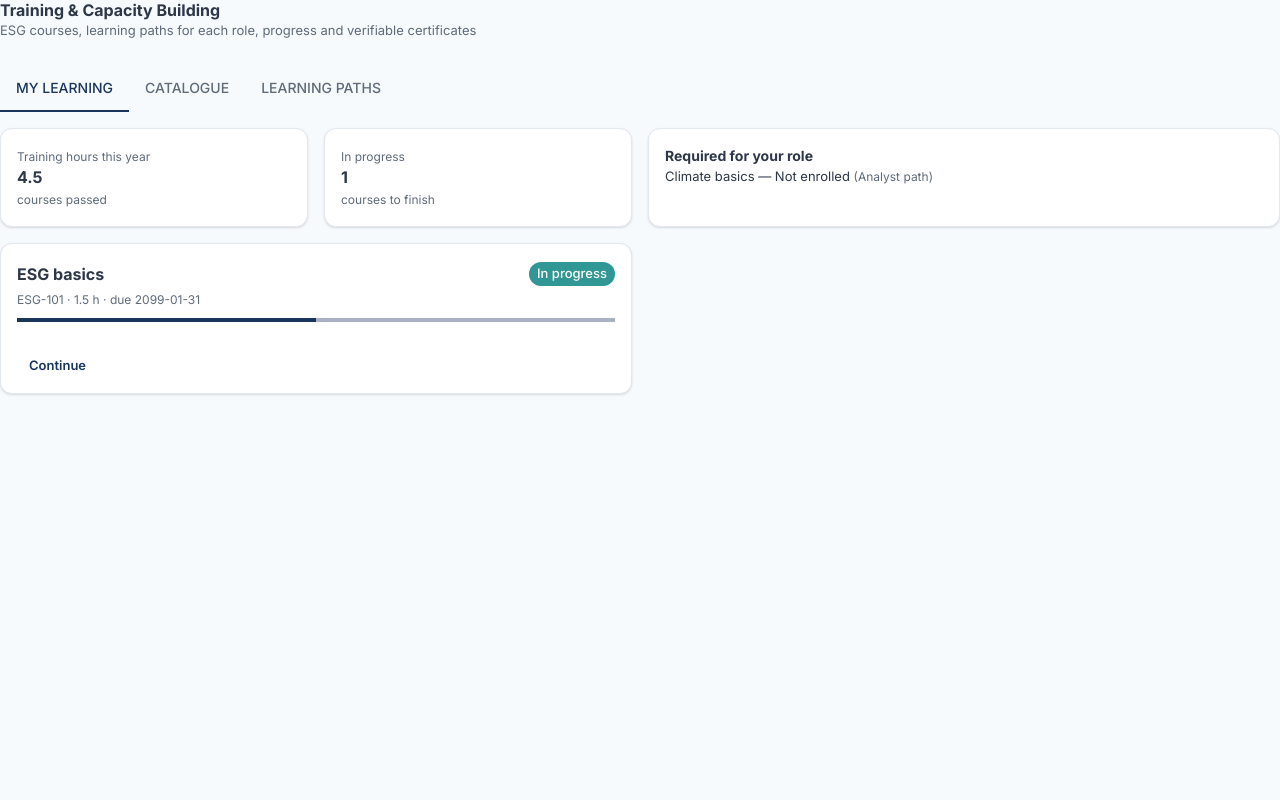
Test case: Training page › a learner works through the modules, takes the quiz and gets a certificate
This screenshot has width=1280, height=800.
Check: the element named "Competency gaps" shows "Climate basics — Not enrolled", box [648,128,1279,227]
Step 1. Click the button with aria-label "Open ESG basics" → (58, 365), box [9,346,106,385]
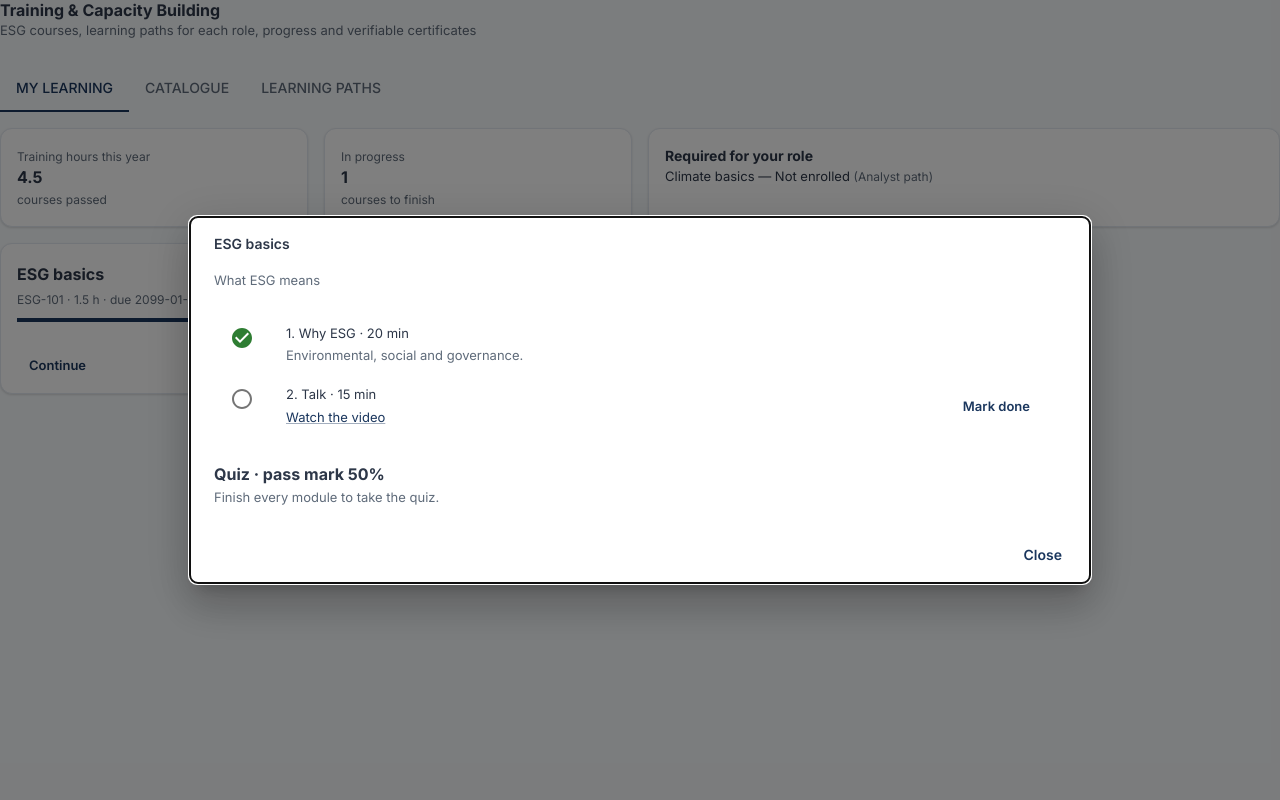
Check: the text "Finish every module to take the quiz." is shown, box [214,489,439,505]
Step 2. Click the button with aria-label "Mark Talk done" → (996, 406), box [943,386,1050,425]
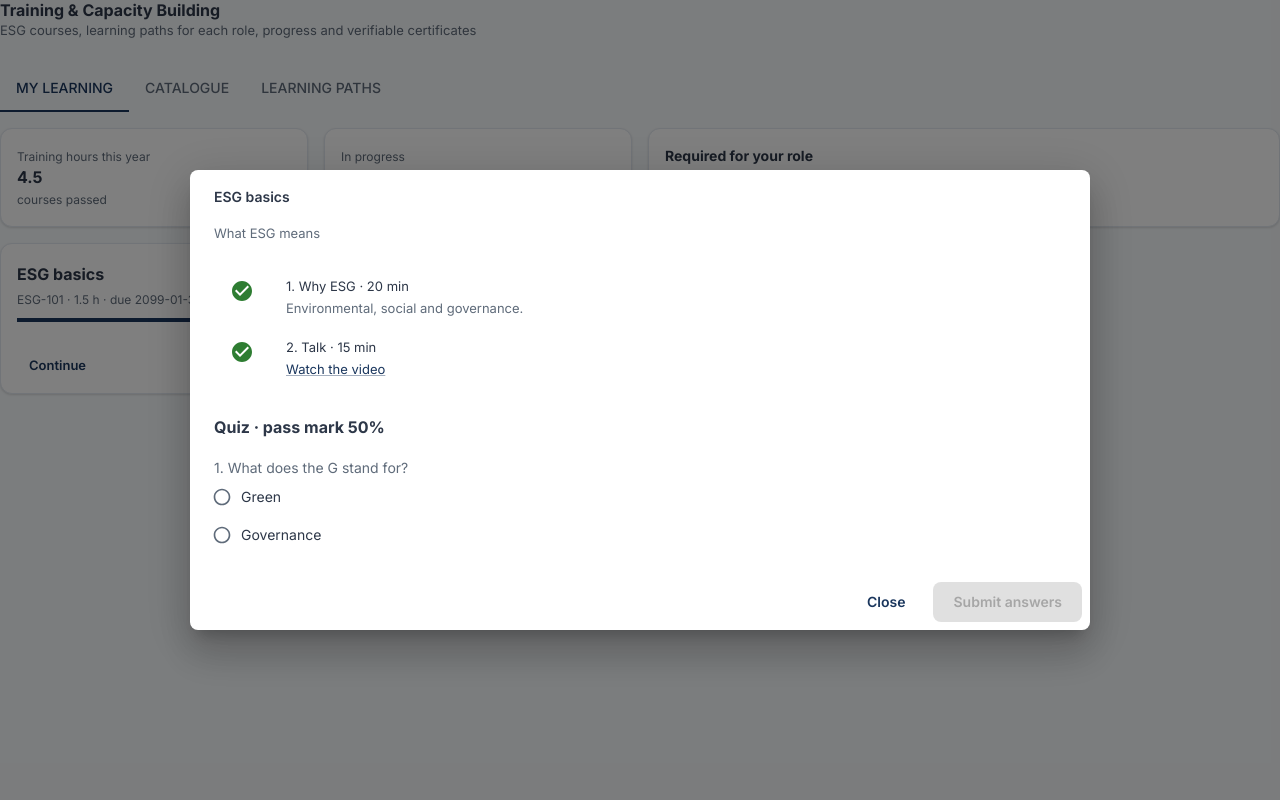
Check: the button "Submit answers" is disabled, box [934,582,1082,622]
Step 3. Click the radio button labelled "Governance" → (267, 535), box [212,525,321,545]
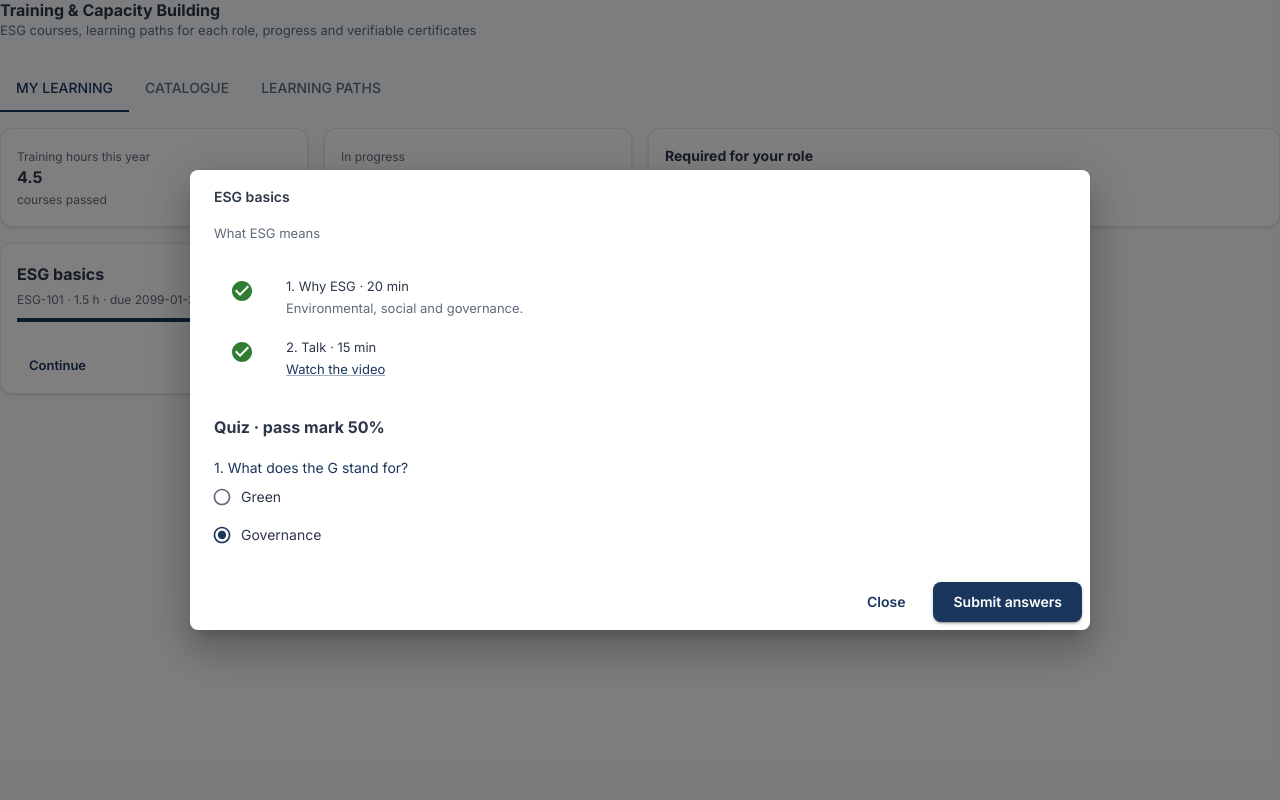
Step 4. Click the button "Submit answers" → (1008, 602), box [934,582,1082,622]
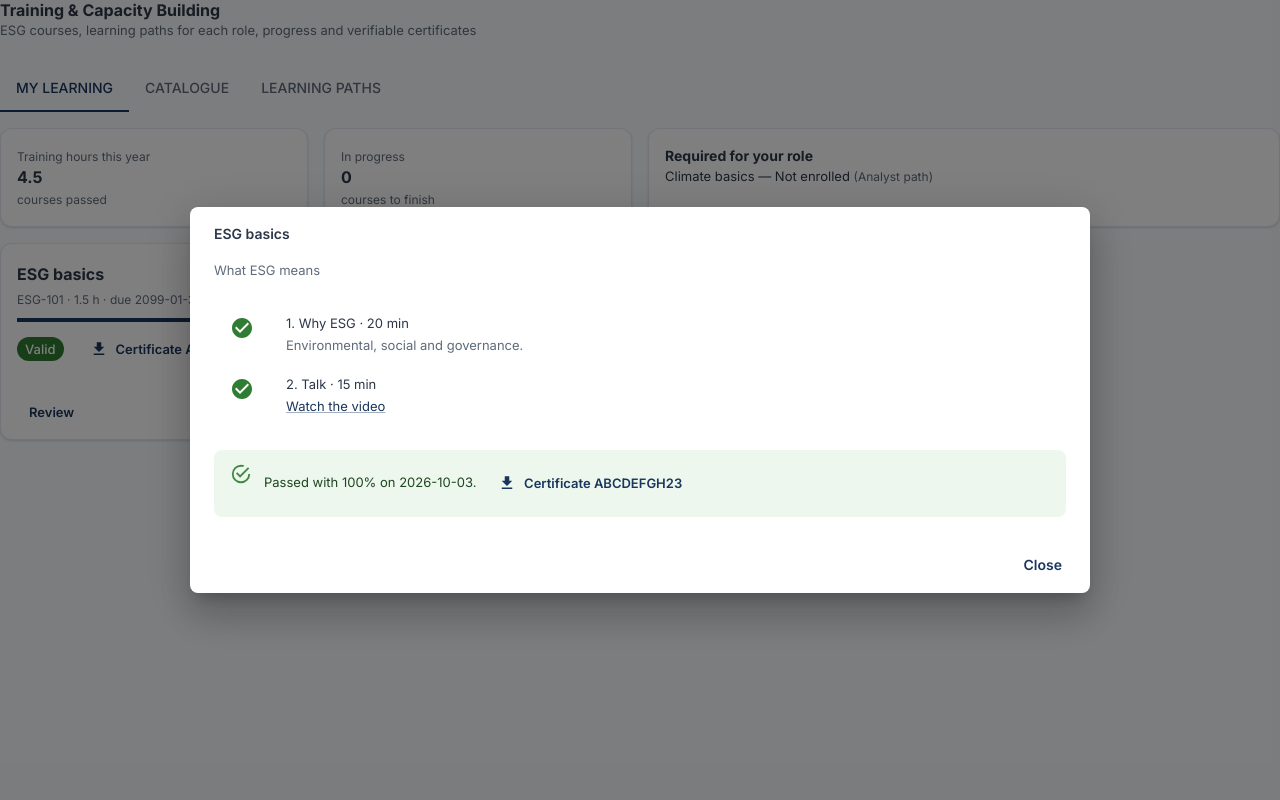
Check: the message named "Quiz result" shows "Passed with 100%", box [214,450,1066,517]
Check: the button "Certificate ABCDEFGH23" is shown, box [480,464,702,503]
